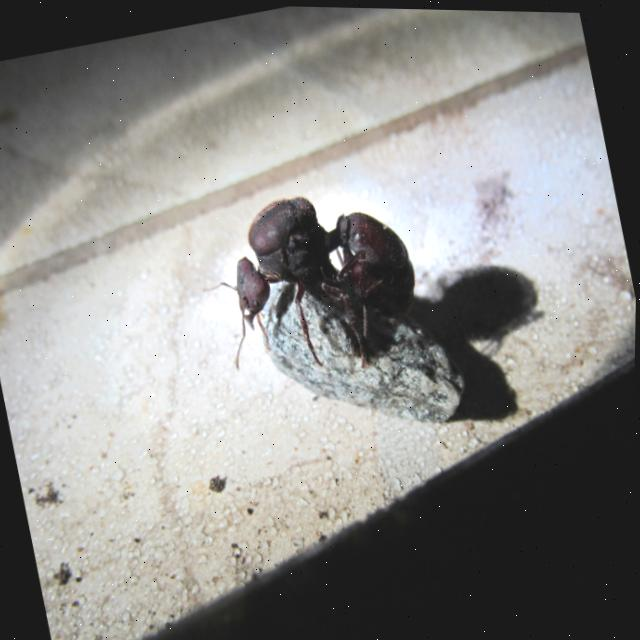Alive-Female-Dealate: (185, 170, 434, 397)
